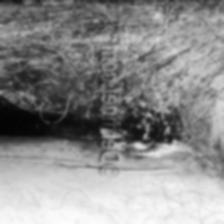Potentially Malignant Skin Tumors: (93, 101, 184, 160)
